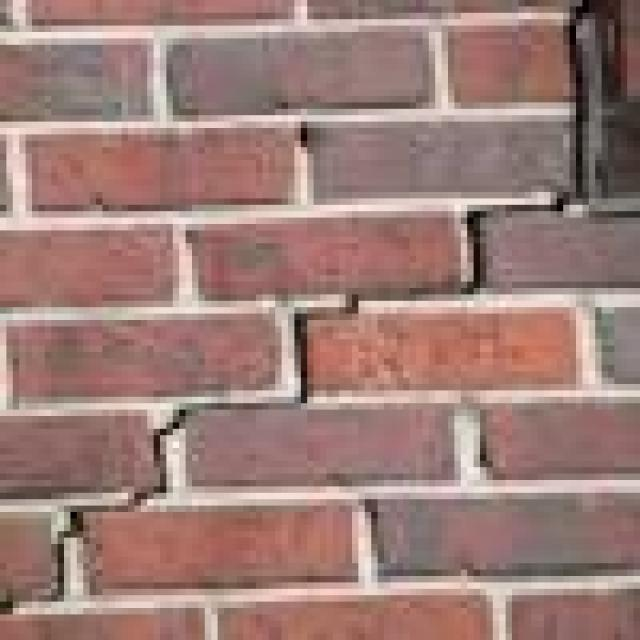Crack: (0, 13, 576, 608)
